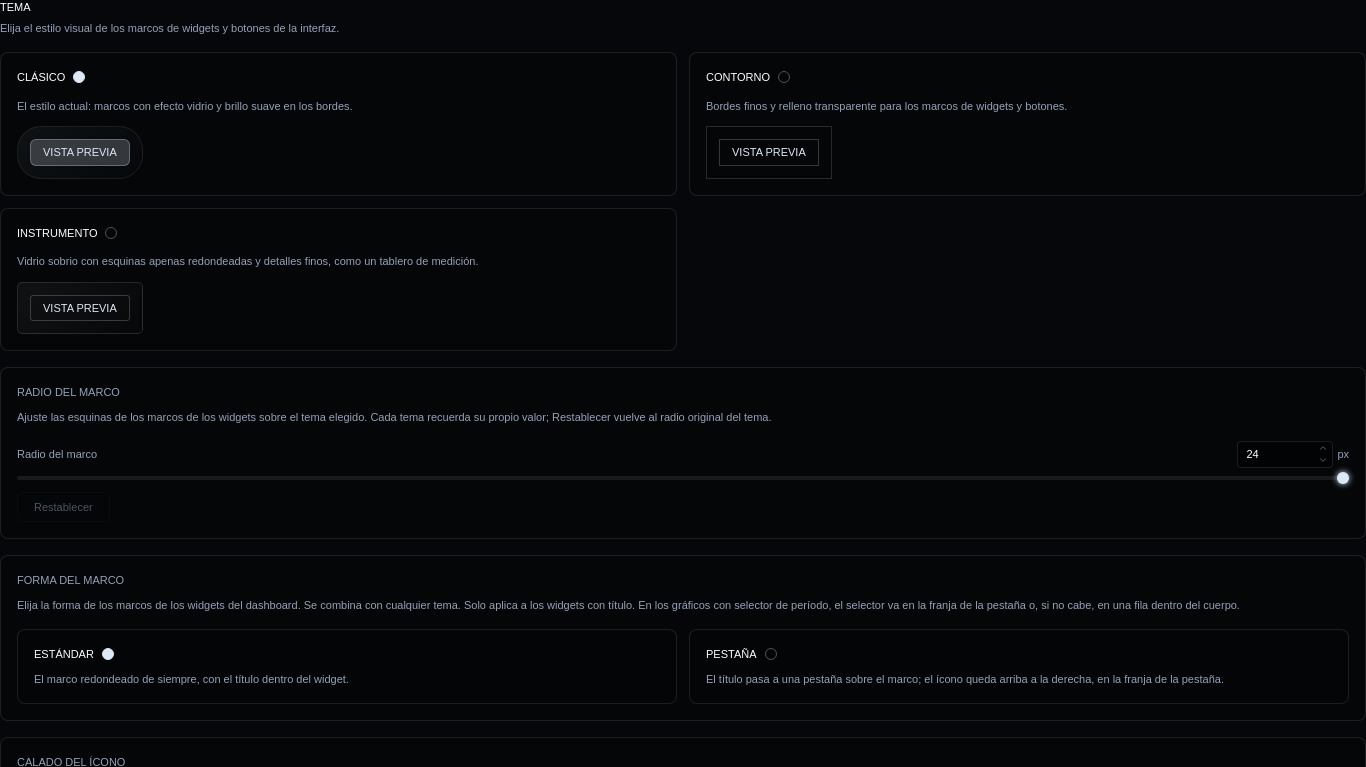
Test case: ThemeSettingsTab › Calado del ícono › notes that it does not apply with another theme, without hiding the switch
The width and height of the screenshot is (1366, 767).
What coordinates should you click on to do the following:
click the radio button labelled "Contorno"
I would click on:
 (738, 77)
Its box is x1=689 y1=52 x2=1365 y2=196.
(page scrolled)
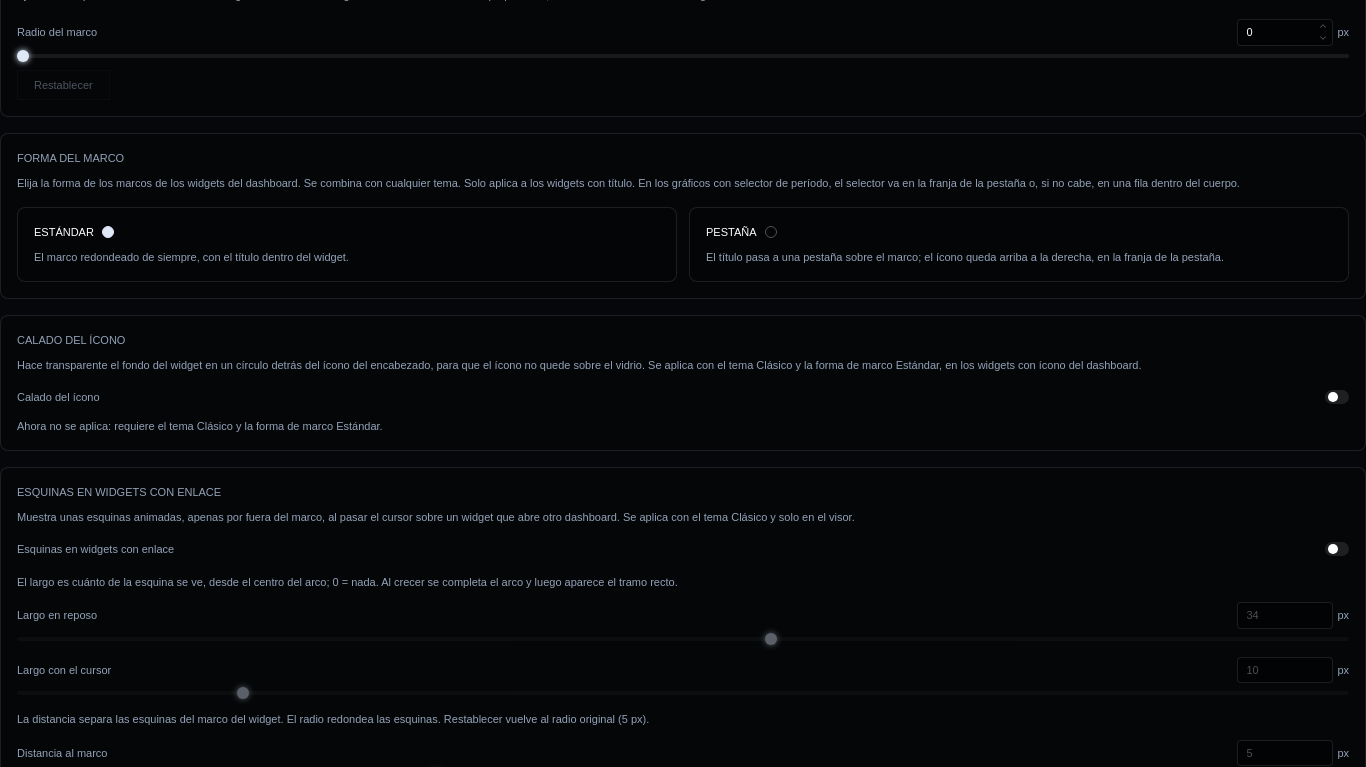
Expected: the element "Calado del ícono" shows "Clásico", x1=17 y1=358 x2=1142 y2=370
Expected: the element "Calado del ícono" shows "ahora no se aplica", x1=17 y1=420 x2=383 y2=432
